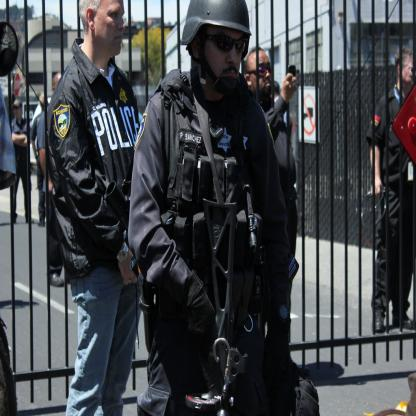Helmet: (181, 3, 254, 97)
